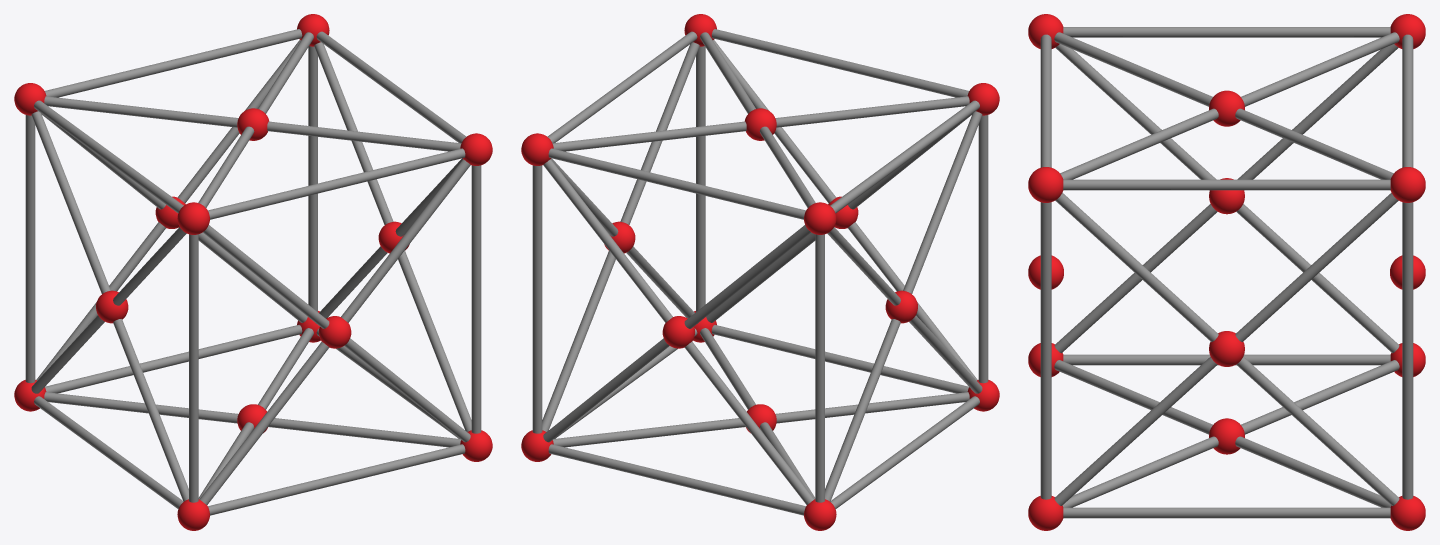
3 renders of one model, left to right at view 1: azimuth 30°, elevation 25°; view 2: azimuth 150°, elevation 25°; view 3: azimuth 270°, elevation 25°, orthographic. The views are drawn at different scales.
Visible parts, largest first — view 1: Цилиндр_Node (×24), Сферы_Node (×10); view 2: Цилиндр_Node (×24), Сферы_Node (×10); view 3: Цилиндр_Node (×16), Сферы_Node (×14).
Boxes of the visible parts, x1=… form: Цилиндр_Node (×24): x1=25, y1=29, x2=481, y2=515; Сферы_Node (×10): x1=14, y1=14, x2=492, y2=530; Цилиндр_Node (×24): x1=532, y1=29, x2=988, y2=515; Сферы_Node (×10): x1=521, y1=14, x2=999, y2=530; Цилиндр_Node (×16): x1=1040, y1=27, x2=1413, y2=518; Сферы_Node (×14): x1=1028, y1=14, x2=1425, y2=530.
Bounding box in the file's own units: 4.33 × 4.33 × 4.33.
25 materials, 1 textured.
